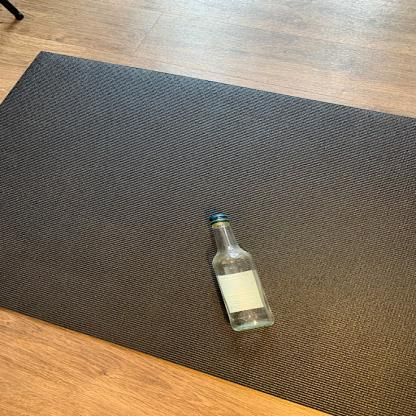trash: (202, 213, 276, 332)
